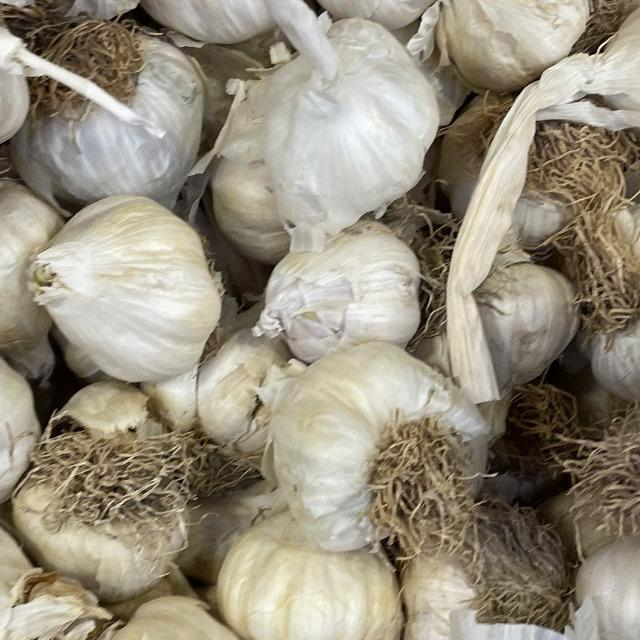garlic: (252, 328, 520, 575), (230, 0, 475, 235), (2, 172, 242, 395), (0, 477, 165, 640), (555, 327, 640, 600), (522, 0, 640, 195)
